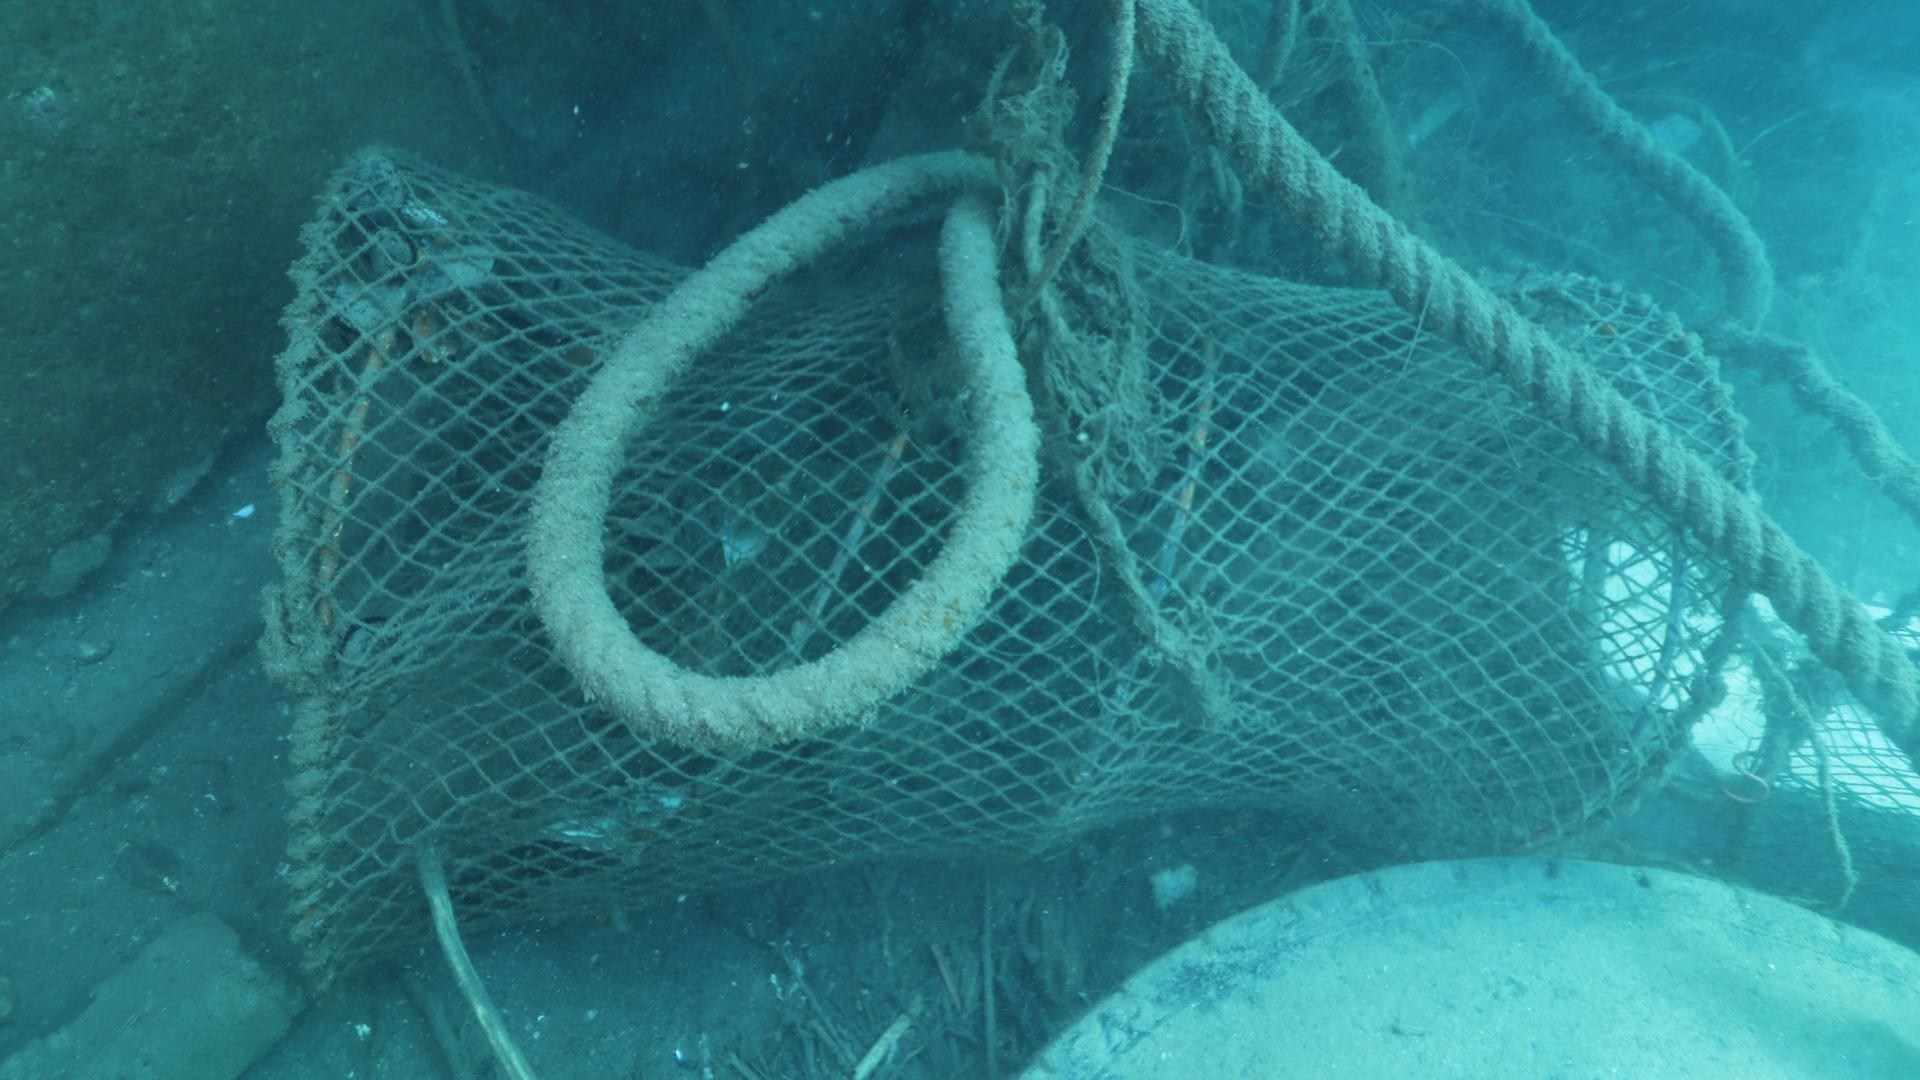rope: (1134, 0, 1920, 764), (520, 152, 1036, 756), (1487, 0, 1920, 527)
spring fish trap: (266, 138, 1762, 1001)
